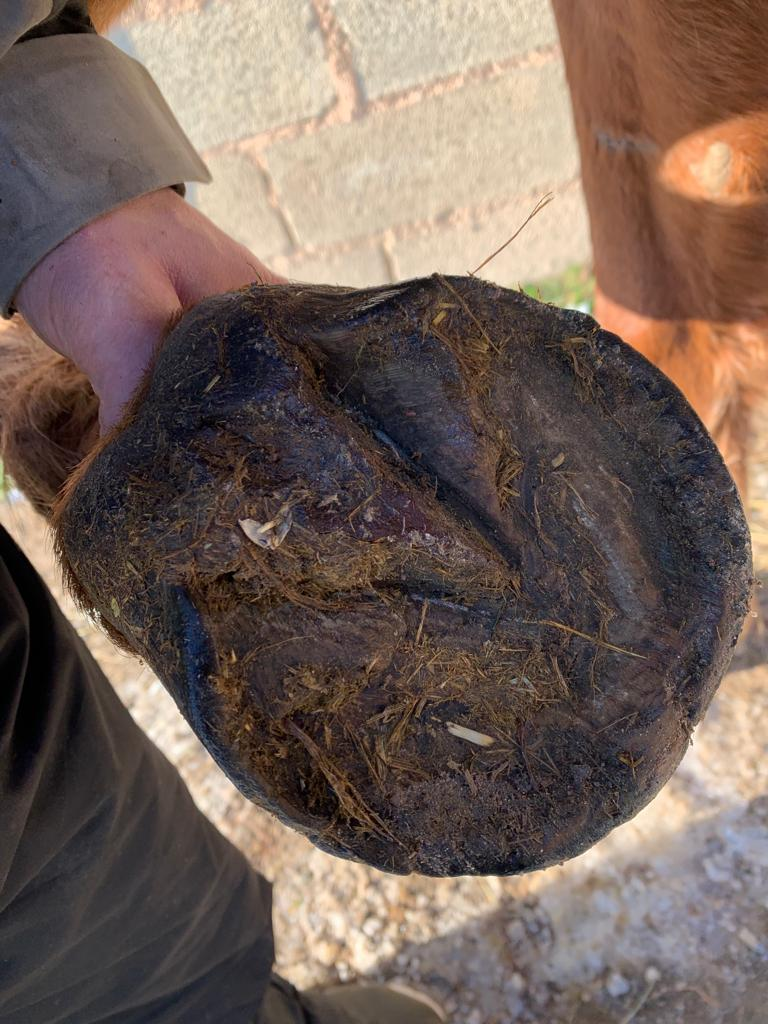horsesole: (166, 273, 754, 878)
